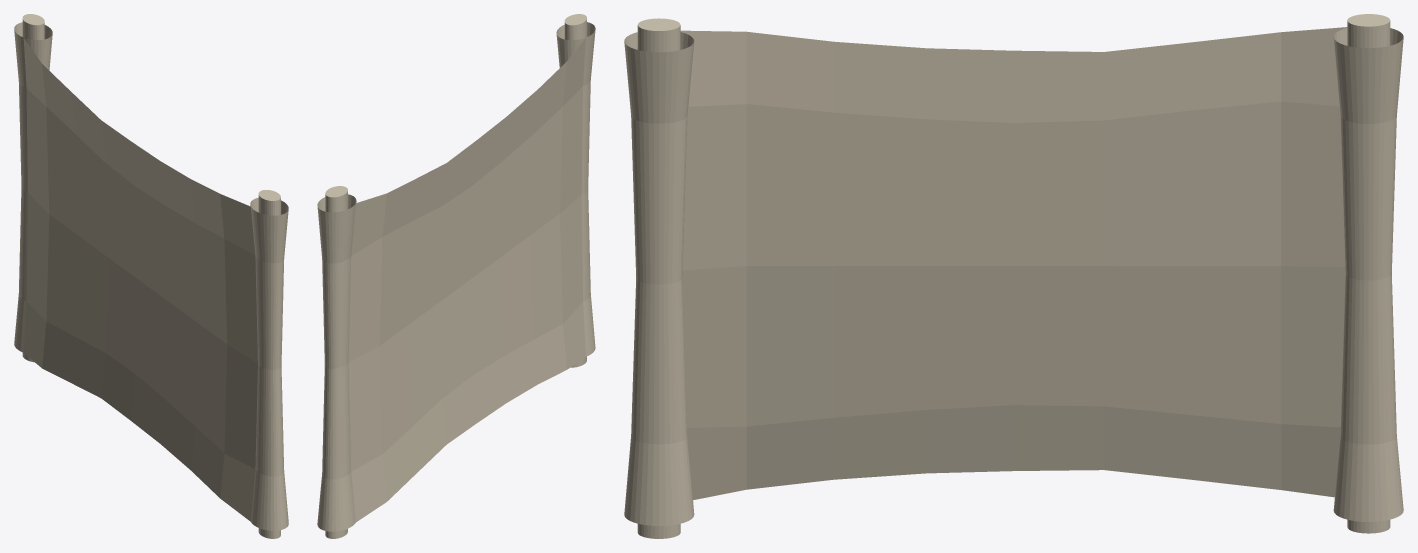
File: pergamena.fbx
3 views of the same model, side by side, from view 1: azimuth 30°, elevation 25°; view 2: azimuth 150°, elevation 25°; view 3: azimuth 270°, elevation 25° (orthographic). The views are drawn at different scales.
Visible parts, largest first — view 1: Circle; view 2: Circle; view 3: Circle.
Part boxes in pixels (x1=…): Circle: x1=14, y1=14, x2=288, y2=538; Circle: x1=317, y1=14, x2=595, y2=538; Circle: x1=624, y1=14, x2=1403, y2=538.
Bounding box in the file's own units: 33.07 × 301 × 415.
